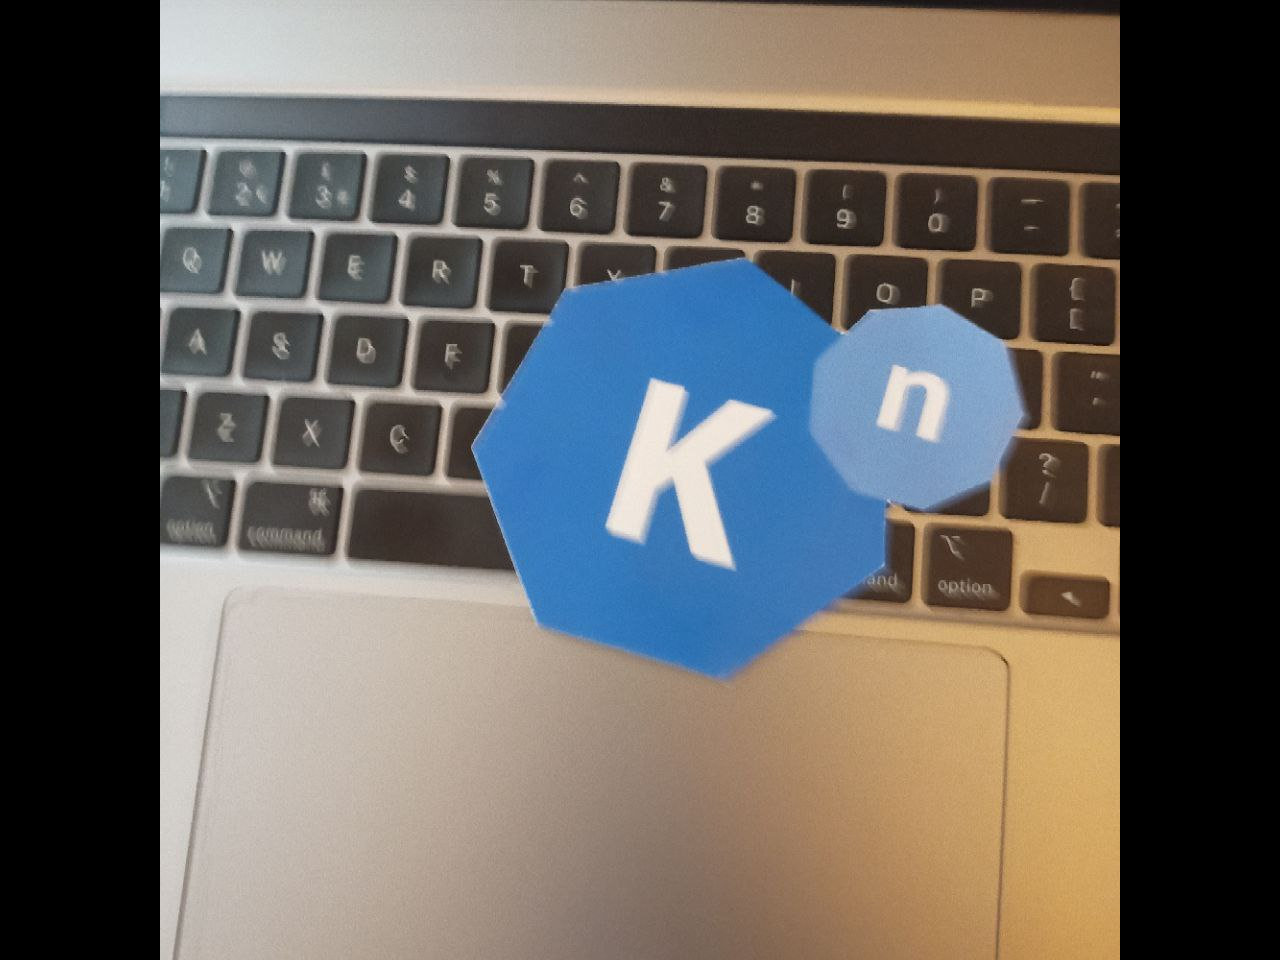knative: (473, 251, 1024, 680)
